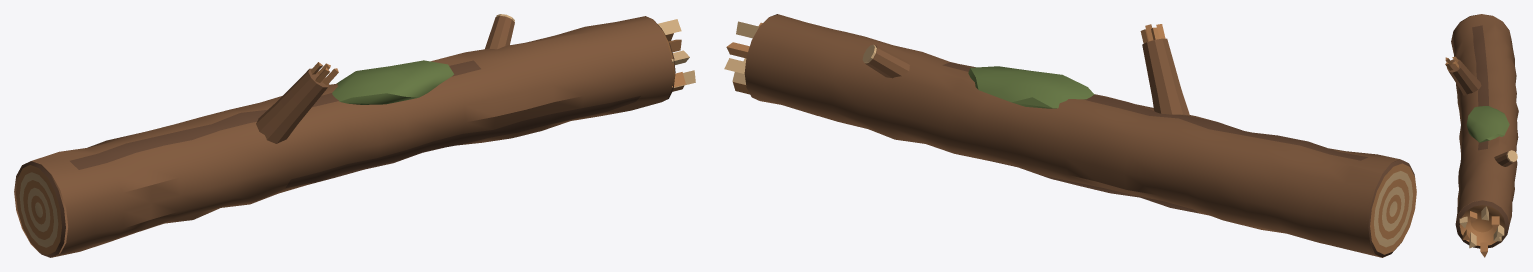
File: FallenLog.fbx
3 renders of one model, left to right at view 1: azimuth 30°, elevation 25°; view 2: azimuth 150°, elevation 25°; view 3: azimuth 270°, elevation 25°, orthographic. The views are drawn at different scales.
Visible parts, largest first — view 1: FallenLog_Mesh; view 2: FallenLog_Mesh; view 3: FallenLog_Mesh.
Boxes of the visible parts, box(x1,y1,x2,y2) form: FallenLog_Mesh: box(14, 14, 695, 257); FallenLog_Mesh: box(724, 14, 1416, 257); FallenLog_Mesh: box(1445, 14, 1518, 257).
Size of the model in its own units: 3.59 by 0.7763 by 0.5784.
